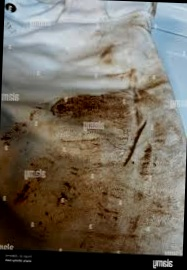earth: (55, 96, 134, 119), (123, 119, 145, 170), (96, 195, 121, 239), (5, 120, 24, 144), (58, 183, 75, 206), (98, 44, 113, 65), (15, 184, 31, 203)
